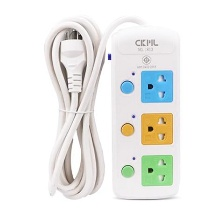three_eye_plug: (100, 19, 182, 202)
